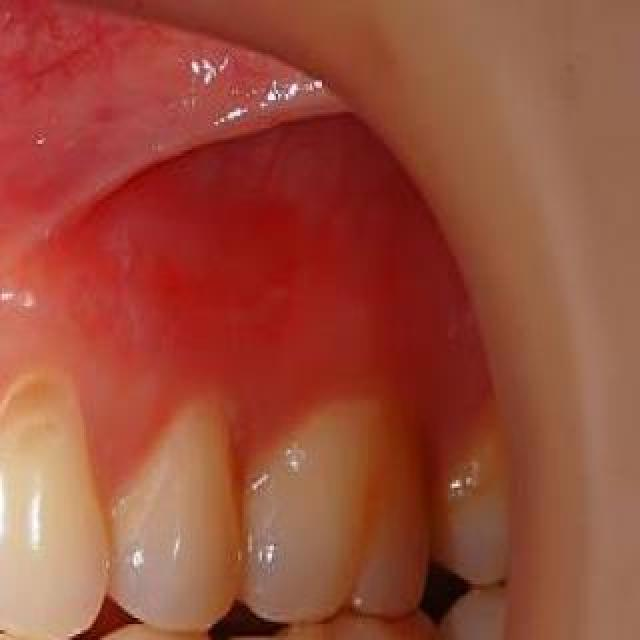cavities: (322, 632, 388, 640)
plaque: (396, 391, 500, 551)
